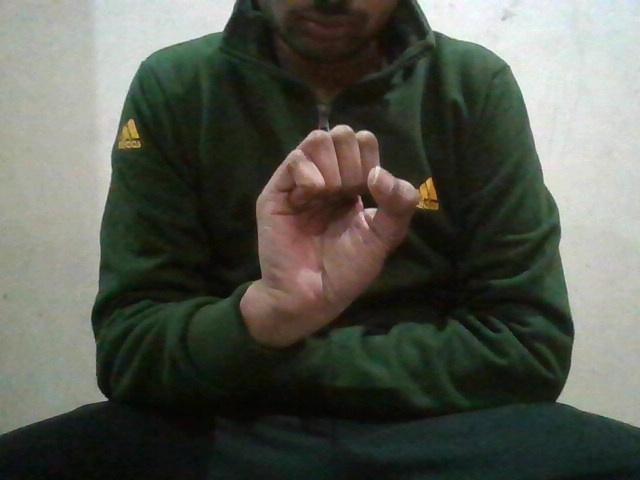S: (249, 124, 422, 306)
